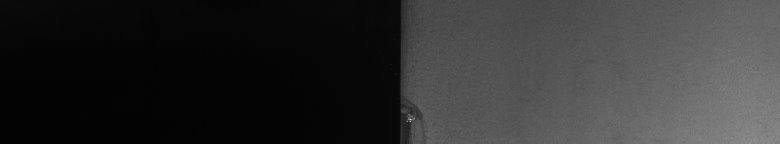hb: (412, 96, 428, 128)
